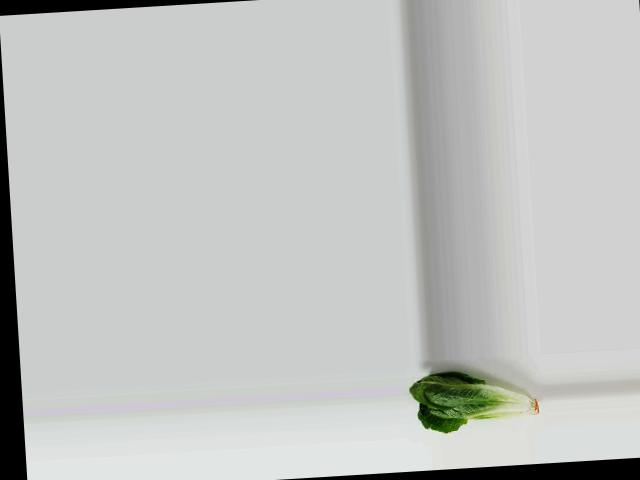lettuce: (407, 362, 546, 436)
